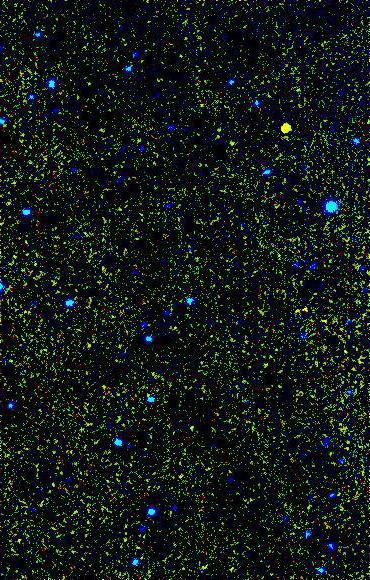star: (271, 113, 301, 143)
